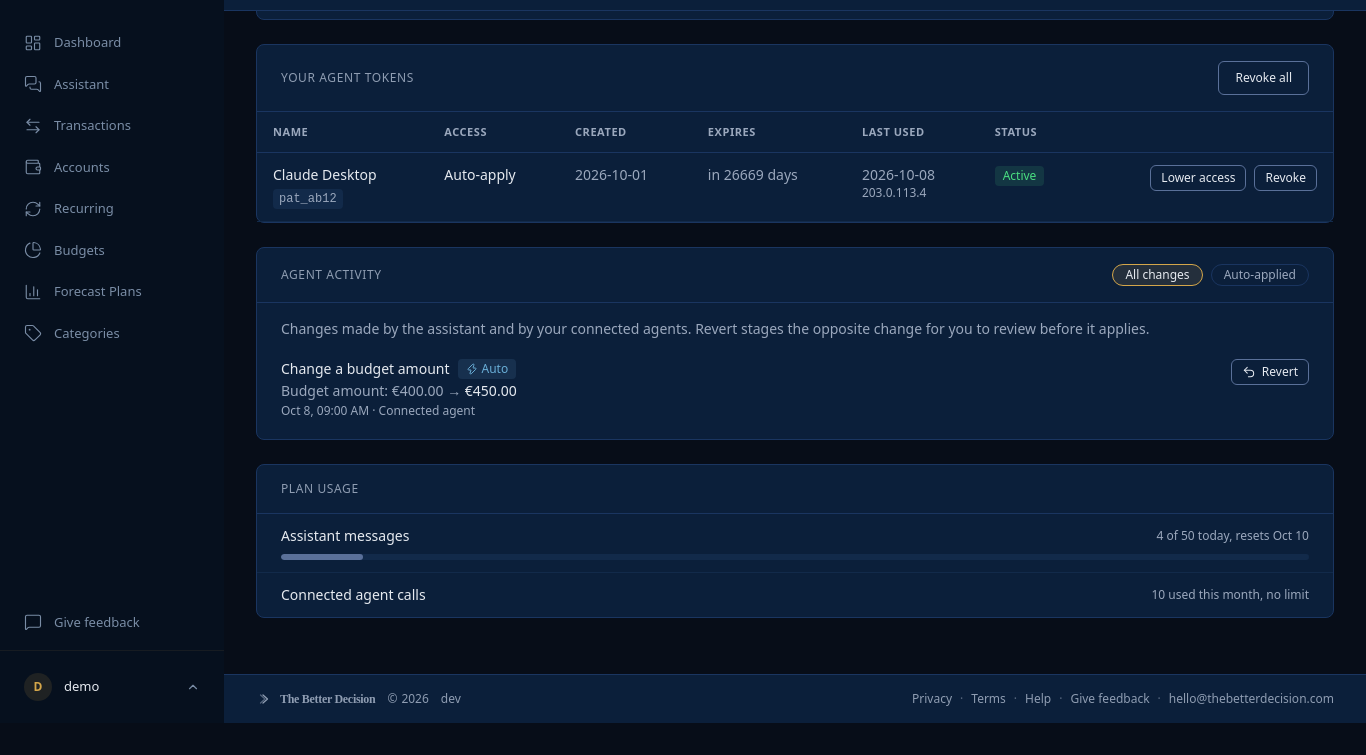
Test: activity › closing a staged revert without deciding discards it
(page scrolled)
Click the button with aria-label "Revert: ".
click(1270, 372)  # box [1231,359,1309,385]
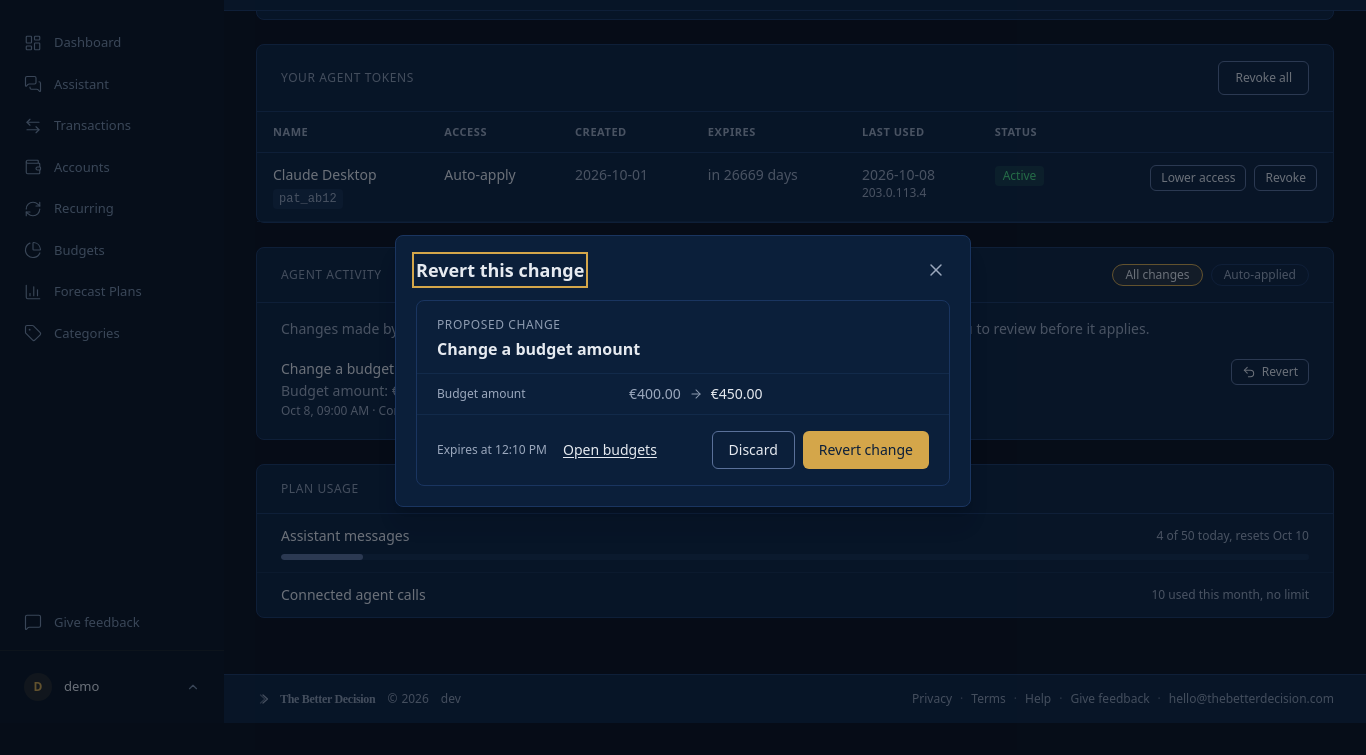
Click the button named "Close".
click(936, 270)  # box [922,256,950,284]
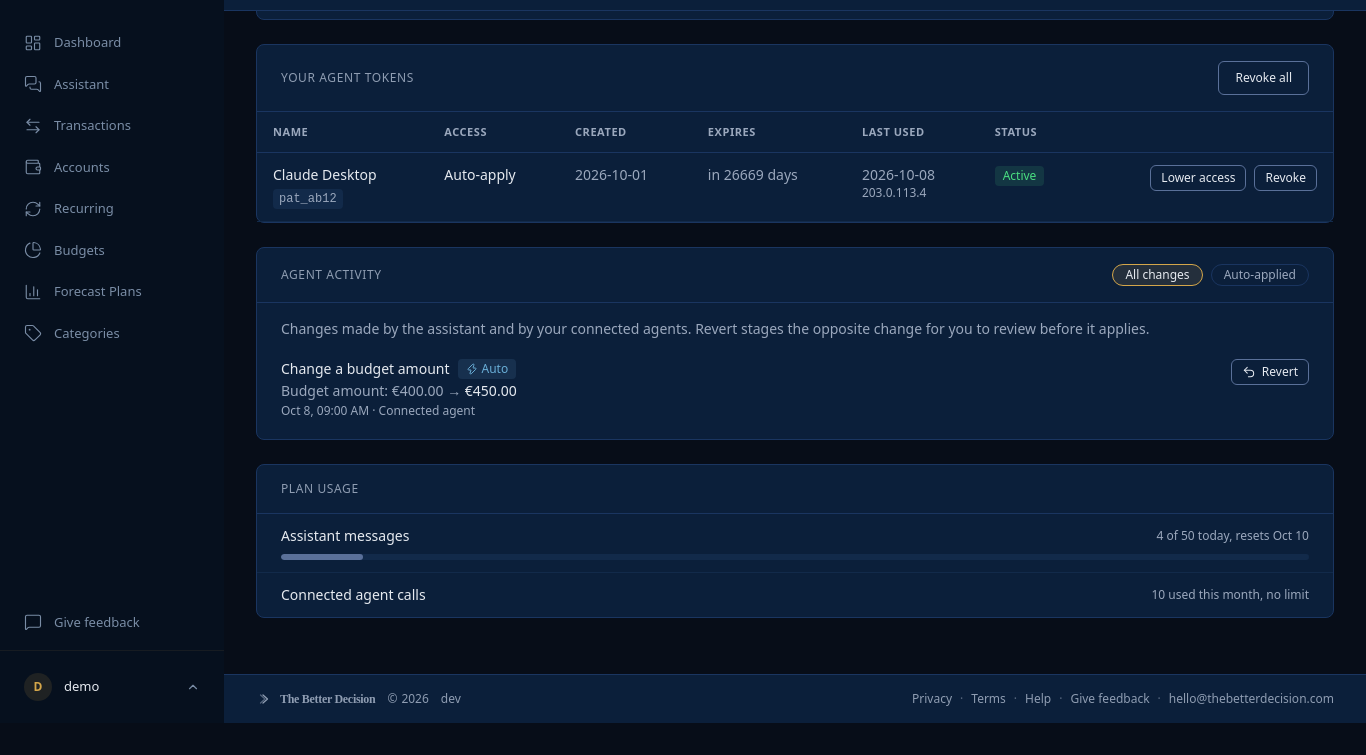
Check: the dialog is gone
